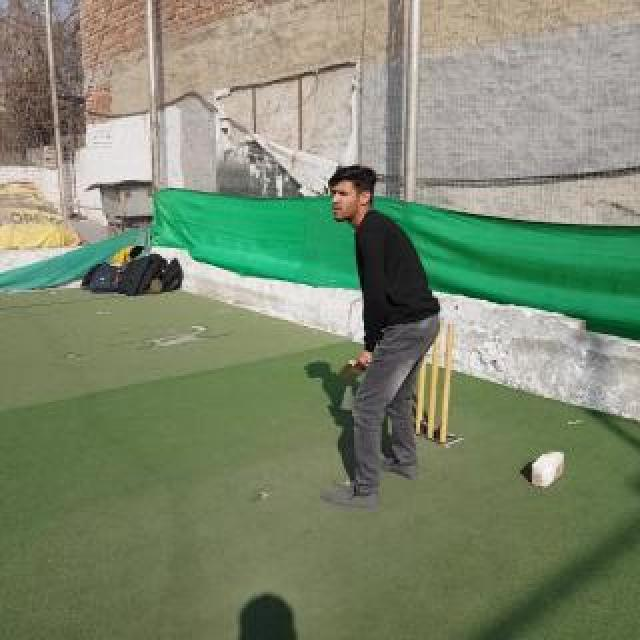bat: (336, 355, 374, 381)
